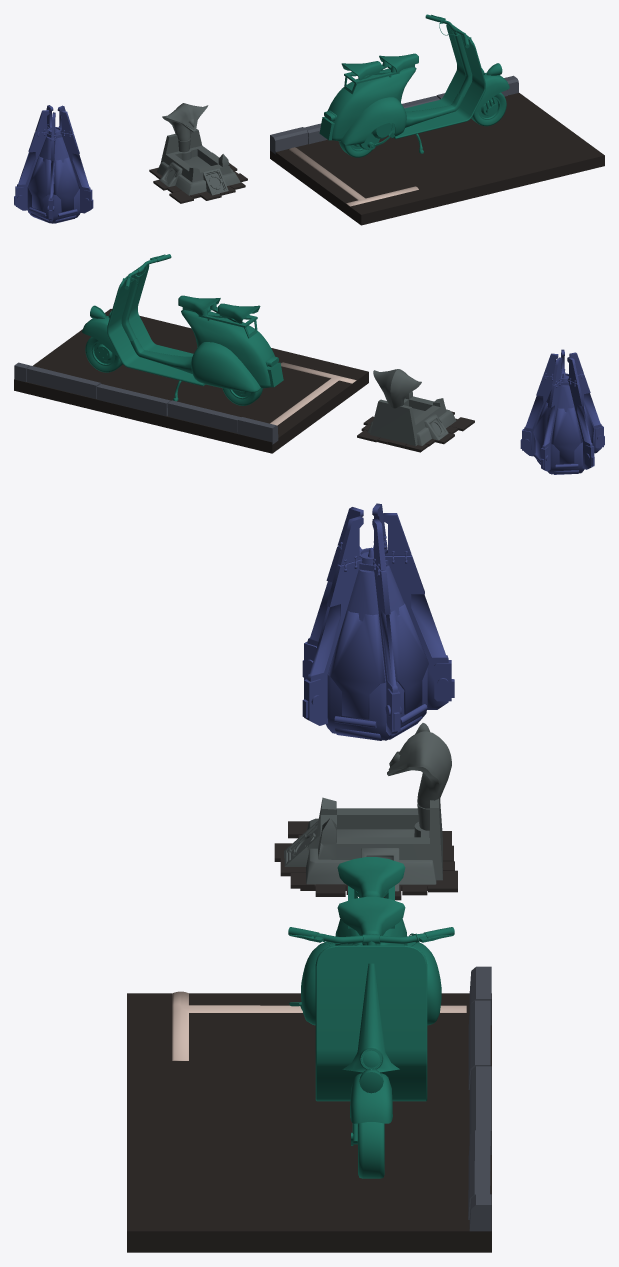
3 views of the same model, one above another, from view 1: azimuth 30°, elevation 25°; view 2: azimuth 150°, elevation 25°; view 3: azimuth 270°, elevation 25° (orthographic). The views are drawn at different scales.
Visible parts, largest first — view 1: road_36, hull.001_22, wings_4, doors_0, pool_no_bevels_31, hull_6, Snake_27, pool_big_bevels_32, floor_37, front_wheel_24, wings2_5, splashboard_23 (+7 smaller); view 2: road_36, hull.001_22, wings_4, pool_no_bevels_31, doors_0, hull_6, Snake_27, floor_37, wings2_5, front_wheel_24, splashboard_23, saddle_10 (+5 smaller); view 3: road_36, hull.001_22, wings_4, doors_0, pool_no_bevels_31, hull_6, Snake_27, floor_37, pool_big_bevels_32, wings2_5, cowl_7, rear_saddle_25 (+5 smaller).
Part boxes in pixels (x1,y1,x2,y2): road_36: (270,75,604,225); hull.001_22: (327,24,485,145); wings_4: (17,105,90,221); doors_0: (27,156,79,212); pool_no_bevels_31: (160,129,231,182); hull_6: (27,133,80,223); Snake_27: (162,103,208,152); pool_big_bevels_32: (157,156,240,195); floor_37: (149,163,247,203); front_wheel_24: (471,92,506,126); wings2_5: (14,186,93,219); splashboard_23: (475,72,509,111); road_36: (14,309,368,453); hull.001_22: (107,264,274,392); wings_4: (524,349,601,471); pool_no_bevels_31: (370,391,446,445); doors_0: (533,401,593,463); hull_6: (534,381,593,474); Snake_27: (373,369,421,408); floor_37: (357,411,474,452); wings2_5: (520,425,604,469); front_wheel_24: (85,337,122,372); splashboard_23: (82,315,118,356); saddle_10: (178,295,220,315); road_36: (127,966,491,1252); hull.001_22: (301,918,441,1101); wings_4: (307,503,448,735); doors_0: (328,603,428,719); pool_no_bevels_31: (318,797,442,880); hull_6: (326,560,427,740); Snake_27: (387,723,451,830); floor_37: (274,821,457,900); pool_big_bevels_32: (306,818,436,884); wings2_5: (302,642,454,731); cowl_7: (342,949,399,1072); rear_saddle_25: (337,857,405,897).
Bounding box in the file's own units: 19.22 × 4.58 × 5.8.
